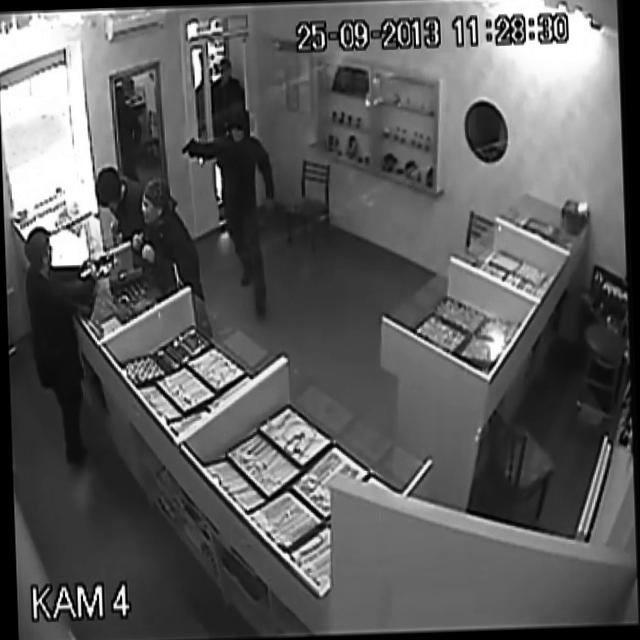gun: (178, 132, 208, 168)
person: (18, 218, 100, 481), (136, 160, 192, 298), (86, 150, 144, 239), (210, 56, 252, 111)
person with a gun: (180, 100, 296, 332)
